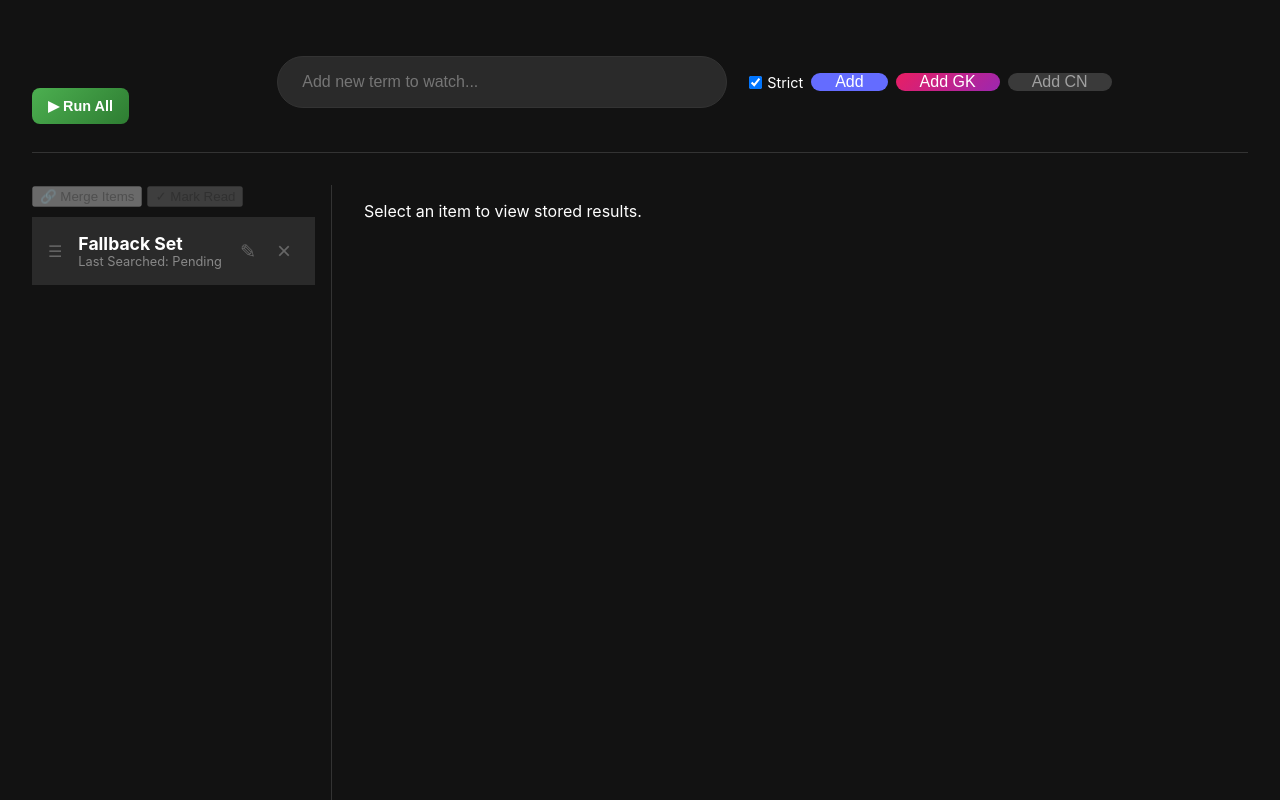
Test: WatchlistManager › loads malformed paginated results response using client-side pagination
Click the text "Fallback Set": (130,244) [78,233,183,254]
(page scrolled)
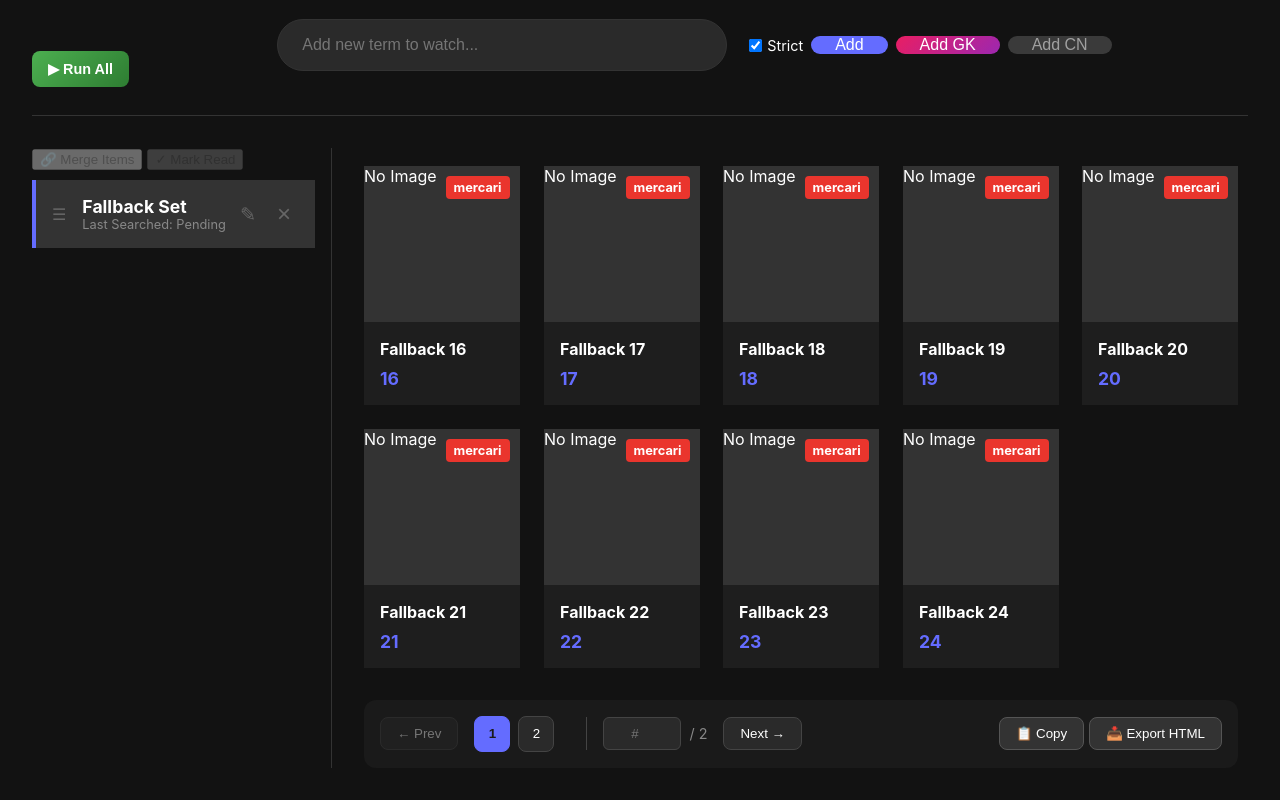
Check: the text "/ 2" is shown, box [689,725,707,742]
